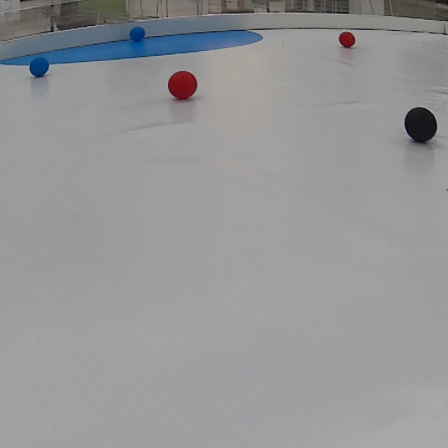black: (401, 103, 442, 145)
blue: (25, 57, 53, 82), (128, 26, 144, 47)
blue_base: (5, 23, 270, 62)
red: (164, 68, 199, 103), (339, 31, 356, 47)
